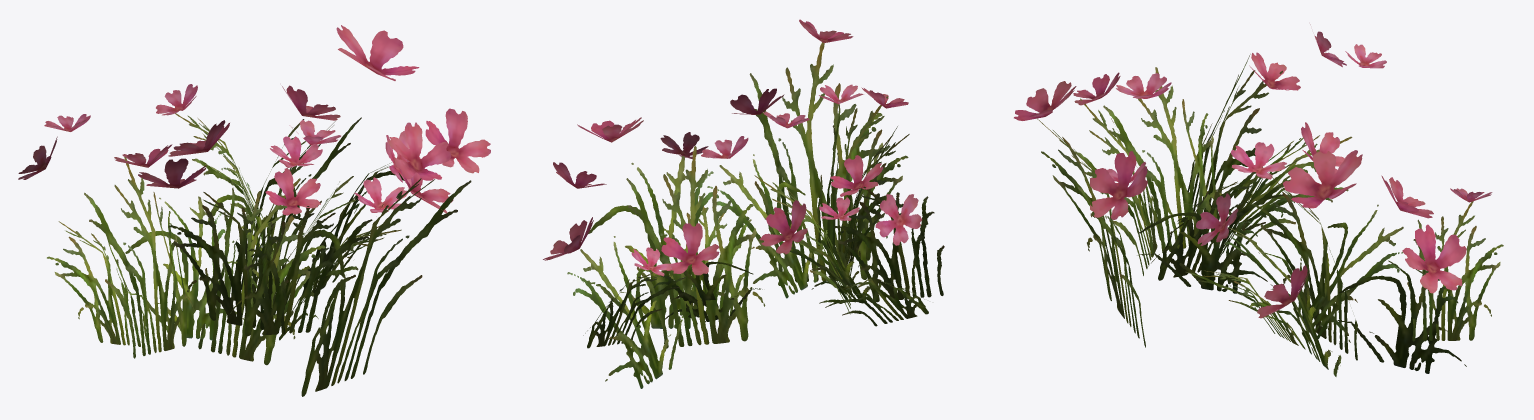
The model's file is flower_A2.fbx.
The picture shows the model from 3 angles, left to right: view 1: azimuth 30°, elevation 25°; view 2: azimuth 150°, elevation 25°; view 3: azimuth 270°, elevation 25°; orthographic projection. The views are drawn at different scales.
Visible parts, largest first — view 1: flower_A2; view 2: flower_A2; view 3: flower_A2.
Boxes of the visible parts, x1=… form: flower_A2: x1=18, y1=25, x2=490, y2=396; flower_A2: x1=543, y1=19, x2=944, y2=388; flower_A2: x1=1014, y1=24, x2=1503, y2=376.
Bounding box in the file's own units: 2.84 × 1.78 × 2.88.
